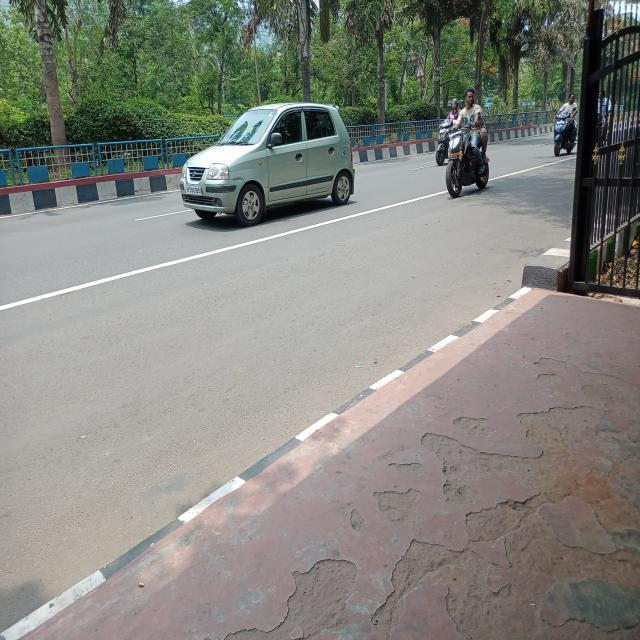bike: (443, 130, 500, 203), (548, 109, 578, 161)
car: (179, 96, 361, 230)
